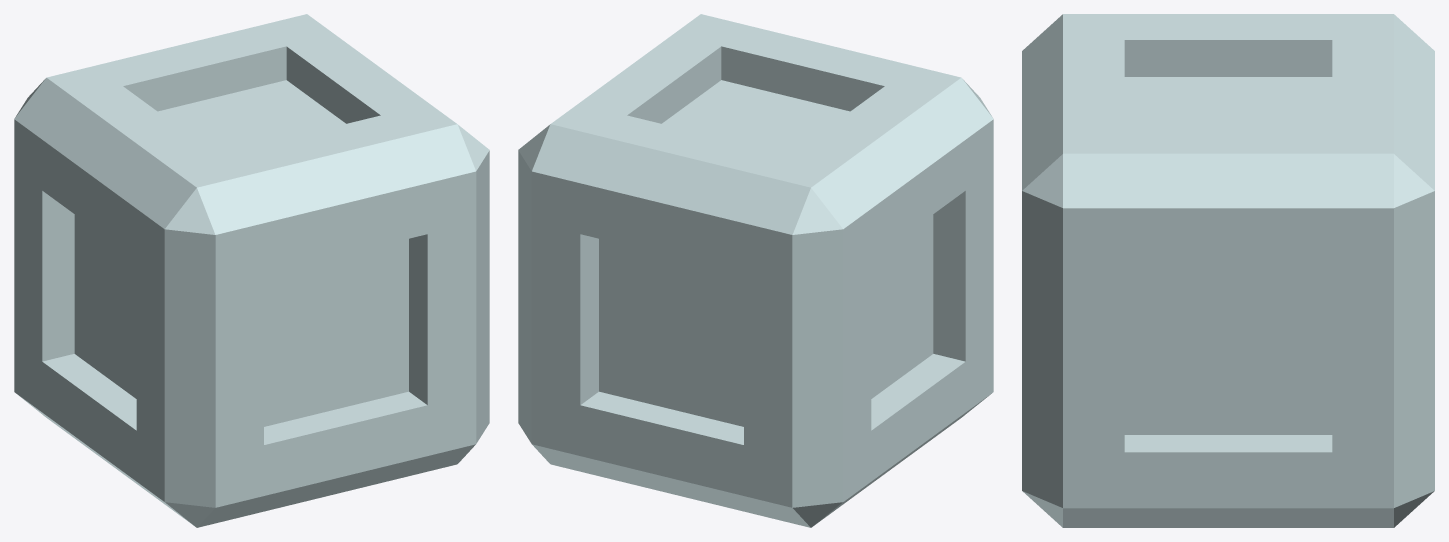
File: stone_block.glb
3 renders of one model, left to right at view 1: azimuth 30°, elevation 25°; view 2: azimuth 150°, elevation 25°; view 3: azimuth 270°, elevation 25°, orthographic. The views are drawn at different scales.
Parts seen in each view (by area): view 1: stone_block; view 2: stone_block; view 3: stone_block.
Part boxes in pixels (x1,y1,x2,y2): stone_block: [14, 14, 489, 527]; stone_block: [518, 14, 993, 527]; stone_block: [1022, 14, 1434, 527].
Size of the model in its own units: 0.26 by 0.26 by 0.26.
